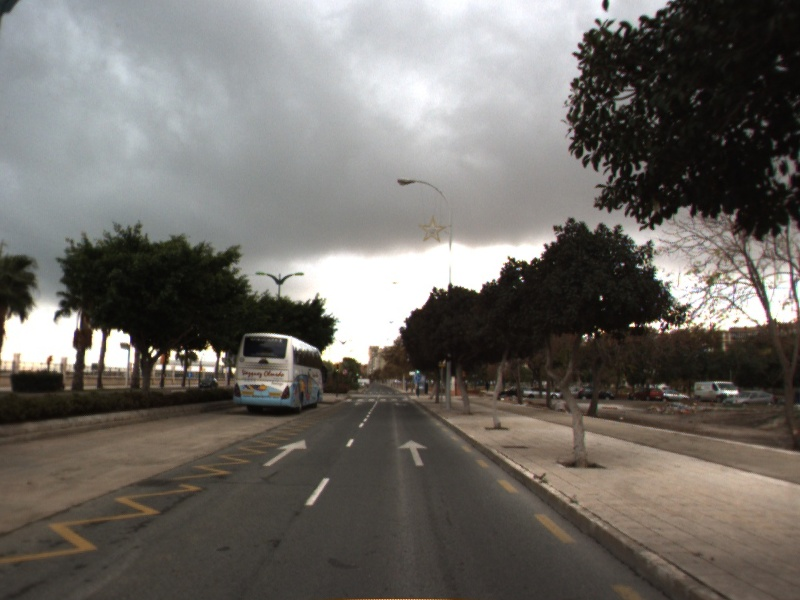STRAIGHT: (261, 438, 308, 468), (396, 438, 431, 467)
